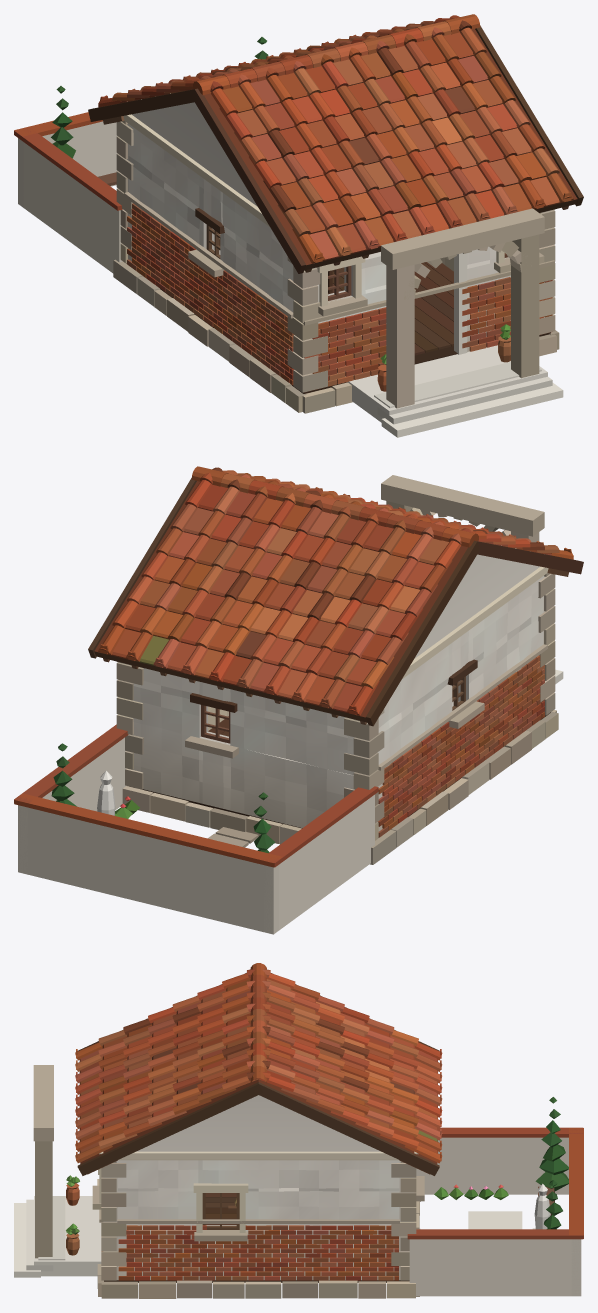
Rendered from patrician_3_1.glb.
3 renders of one model, top to bottom at view 1: azimuth 30°, elevation 25°; view 2: azimuth 150°, elevation 25°; view 3: azimuth 270°, elevation 25°, orthographic. The views are drawn at different scales.
Parts seen in each view (by area): view 1: House, Walls, Rooms; view 2: House, Walls; view 3: House, Walls, Rooms.
Part boxes in pixels (left/top/right/bottom): House: left=14, top=14, right=583, bottom=437; Walls: left=127, top=102, right=549, bottom=379; Rooms: left=219, top=234, right=453, bottom=355; House: left=14, top=466, right=583, bottom=934; Walls: left=121, top=554, right=544, bottom=831; House: left=14, top=963, right=583, bottom=1298; Walls: left=103, top=1095, right=413, bottom=1280; Rooms: left=205, top=1193, right=236, bottom=1224.
Size of the model in its own units: 4.09 by 3.66 by 8.43.
Materials: 3 (3 with a texture image).
